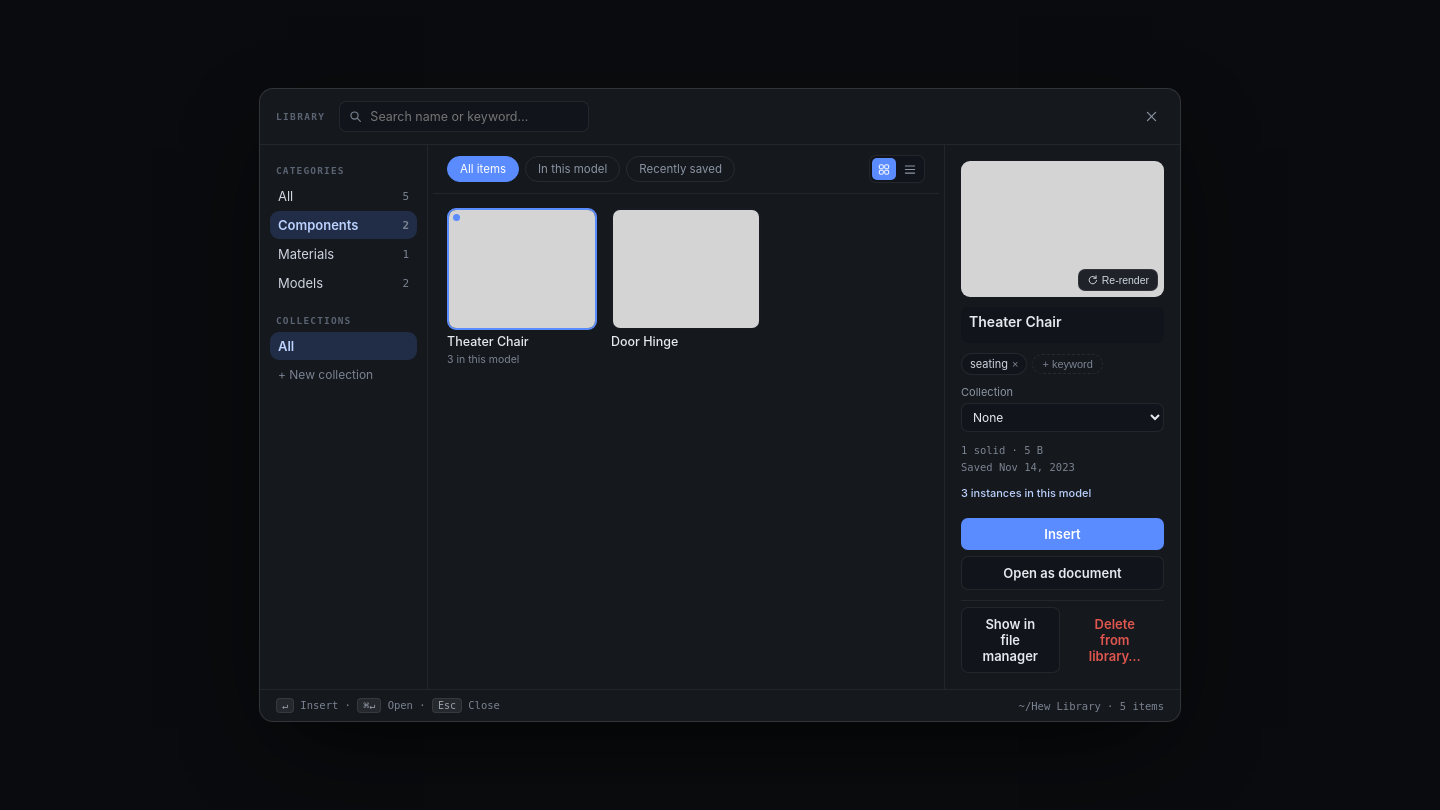
LibraryDialog › scope "In this model" keeps only items with a positive placement count
Expected: the text "Theater Chair" is shown, [447,334,529,349]
Expected: the text "Door Hinge" is shown, [611,334,678,349]
Click the button "In this model" at {"x": 573, "y": 169}, box [525,156,620,182]
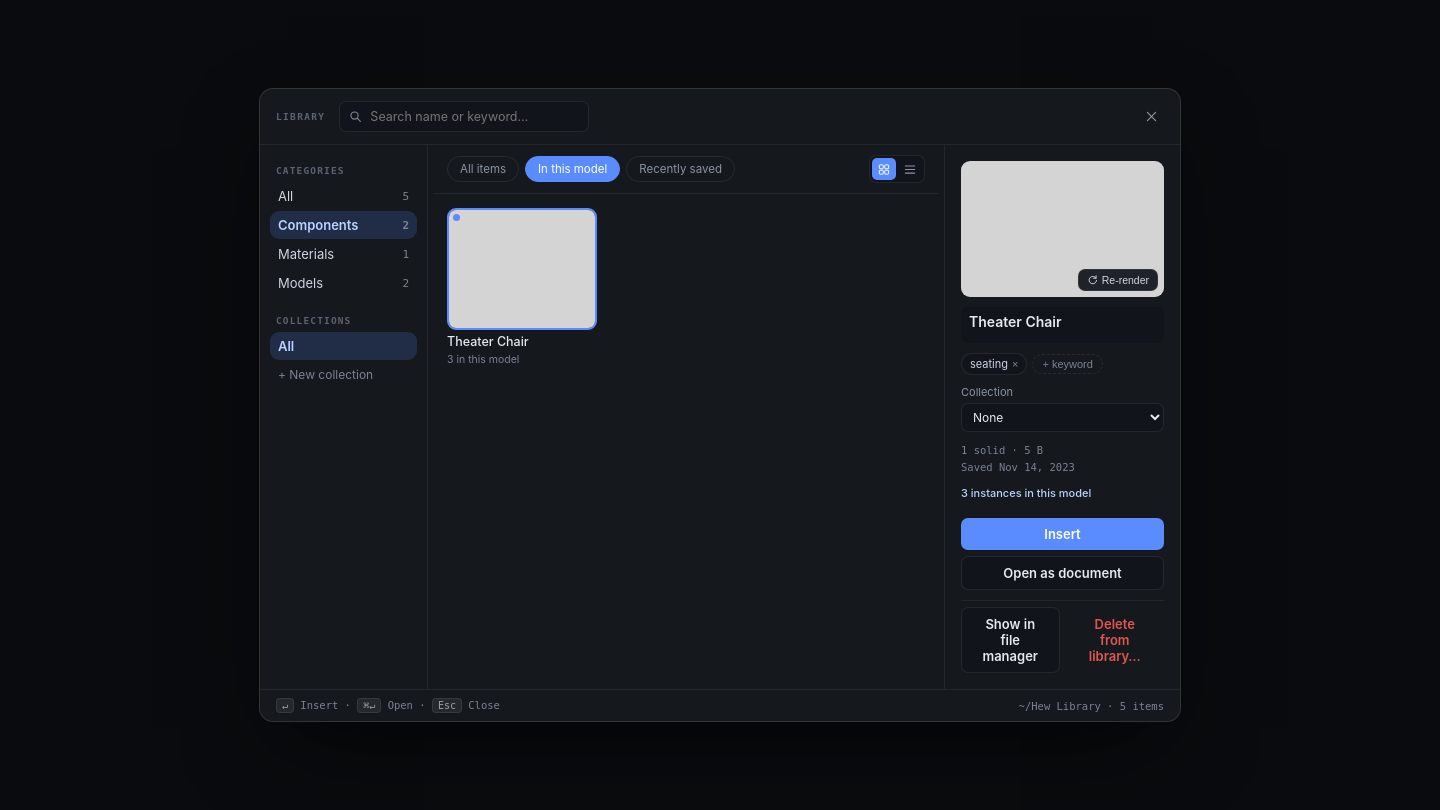
Expected: the text "Theater Chair" is shown, [447,334,529,349]
Result: the option "Door Hinge" is gone
